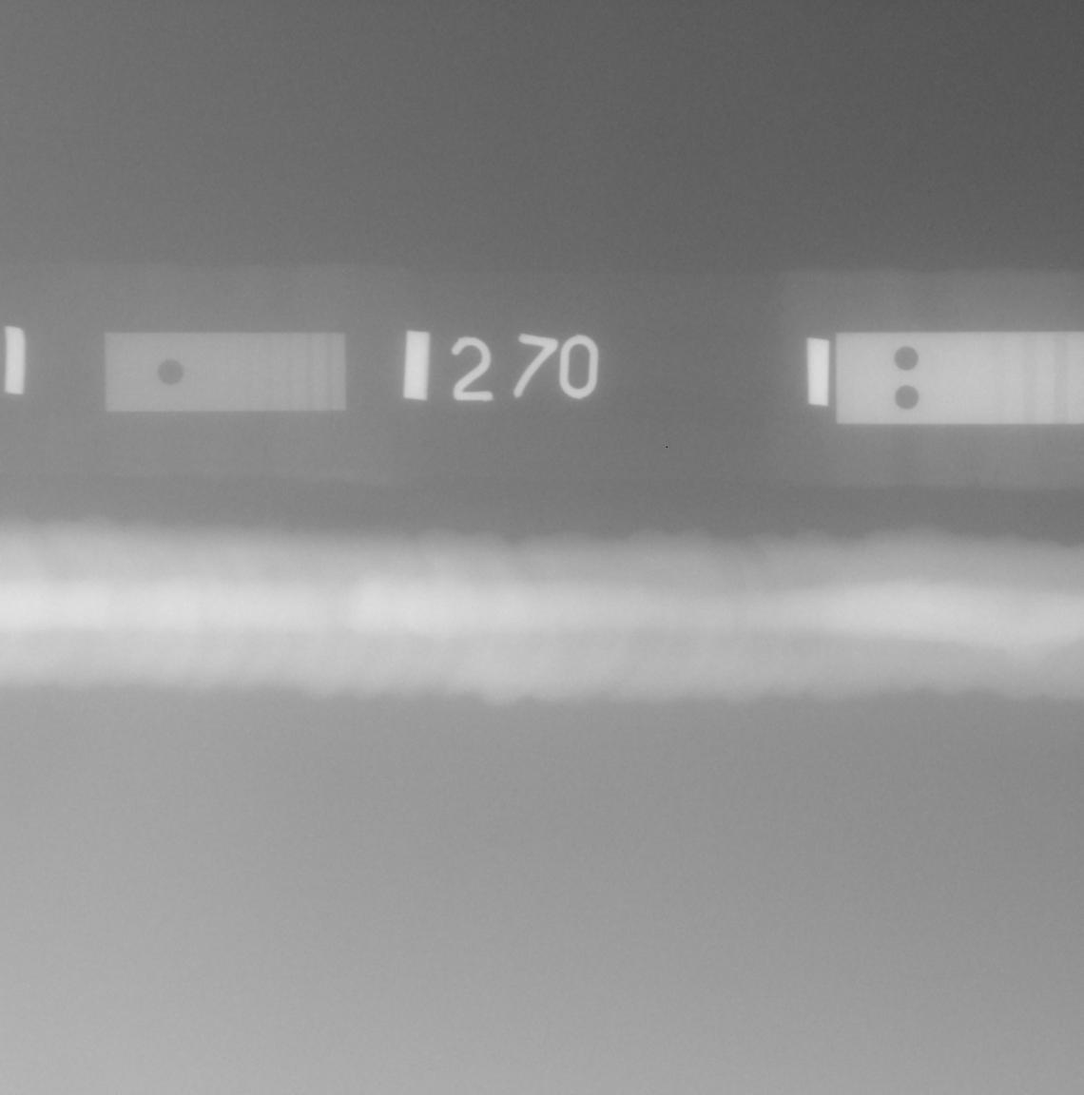Reference Standard 1: (105, 333, 346, 411)
